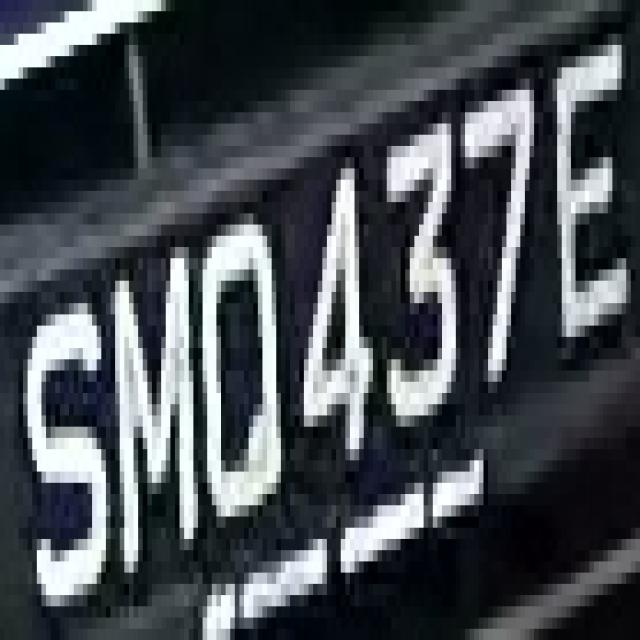3: (368, 90, 465, 449)
4: (290, 135, 378, 483)
7: (433, 68, 543, 416)
E: (539, 34, 635, 382)
M: (115, 224, 207, 584)
Q: (180, 168, 290, 528)
S: (14, 258, 115, 618)
